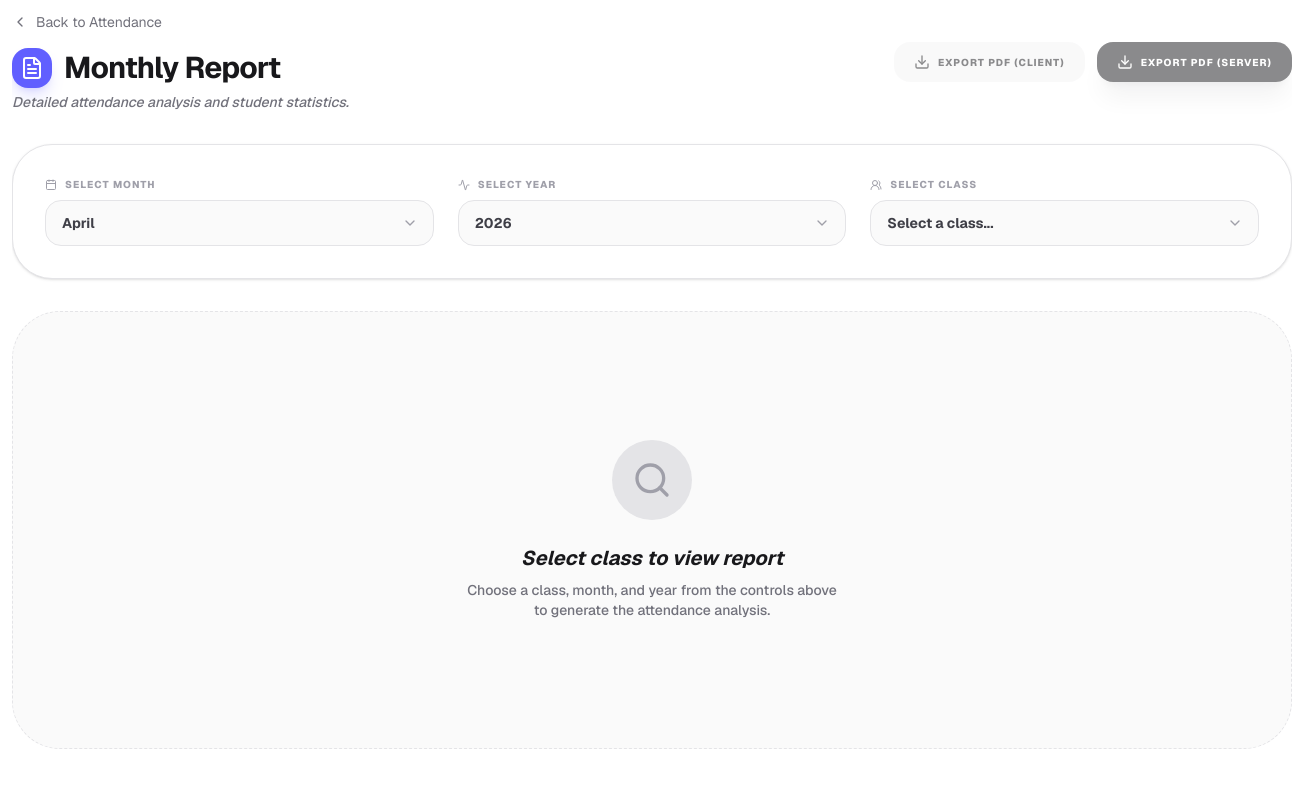
Test: AttendanceReportPage › generates report when a class is selected
Step 1. Select "Standard 10 - A" in the dropdown labelled "Select Class" → (1065, 223), box [870,200,1259,246]
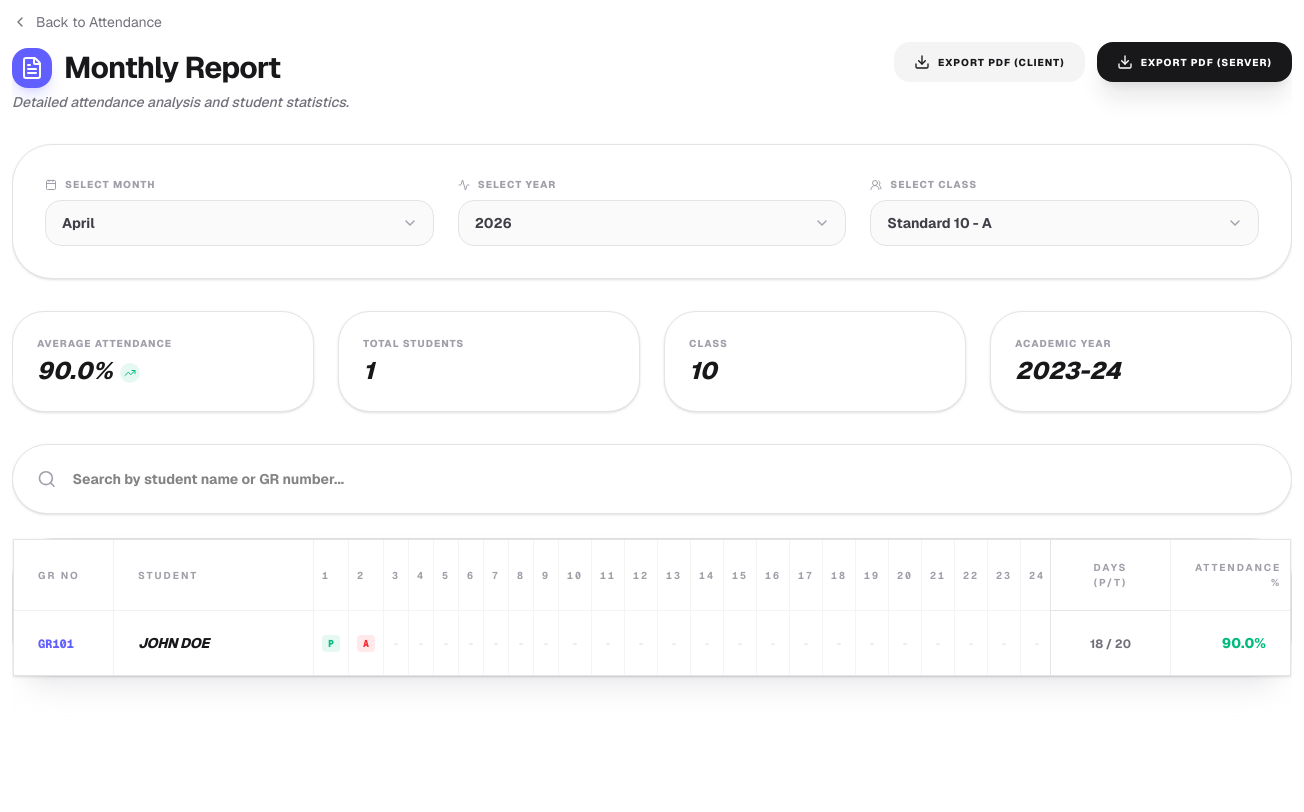
Expected: the text "John Doe" is shown, [138,634,209,652]
Expected: the heading "90.0%" is shown, [37,355,112,387]
